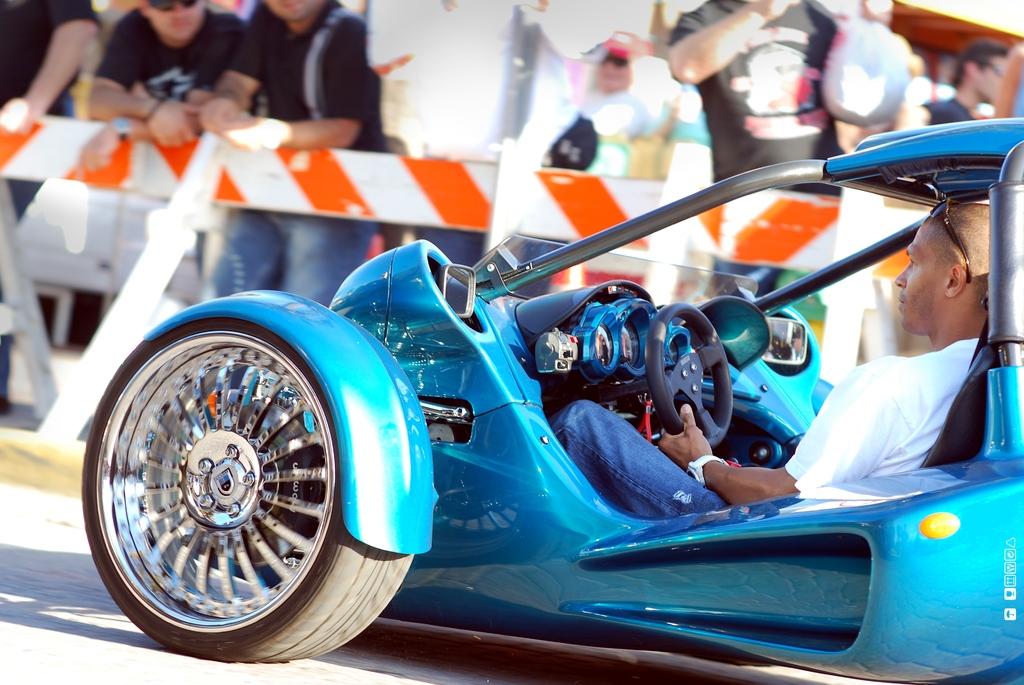Car: (82, 113, 1023, 684)
